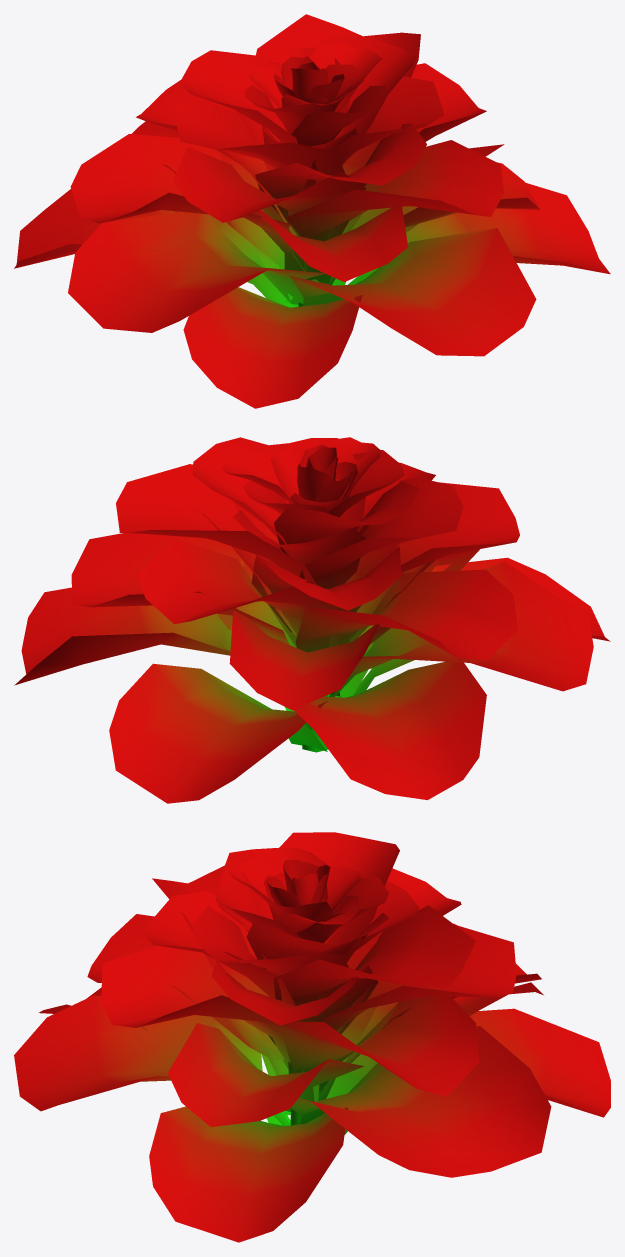
The model's file is White Ornamental Kale_LOD2_Var1_ue3ldcgja.fbx.
3 views of the same model, one above another, from view 1: azimuth 30°, elevation 25°; view 2: azimuth 150°, elevation 25°; view 3: azimuth 270°, elevation 25° (orthographic). The views are drawn at different scales.
Visible parts, largest first — view 1: _0f26_Var1_LOD2; view 2: _0f26_Var1_LOD2; view 3: _0f26_Var1_LOD2.
Boxes of the visible parts, x1=… form: _0f26_Var1_LOD2: x1=14, y1=14, x2=610, y2=408; _0f26_Var1_LOD2: x1=14, y1=437, x2=610, y2=803; _0f26_Var1_LOD2: x1=14, y1=832, x2=610, y2=1242.
Bounding box in the file's own units: 79.97 × 43.5 × 79.05.
